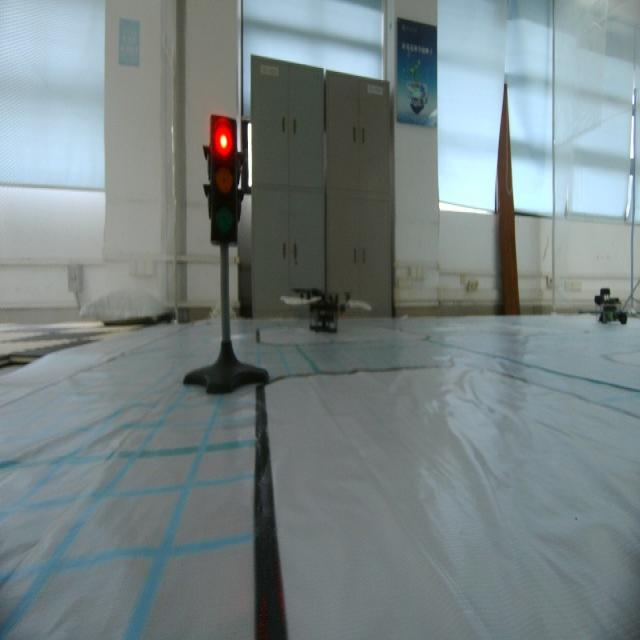red: (203, 111, 245, 251)
